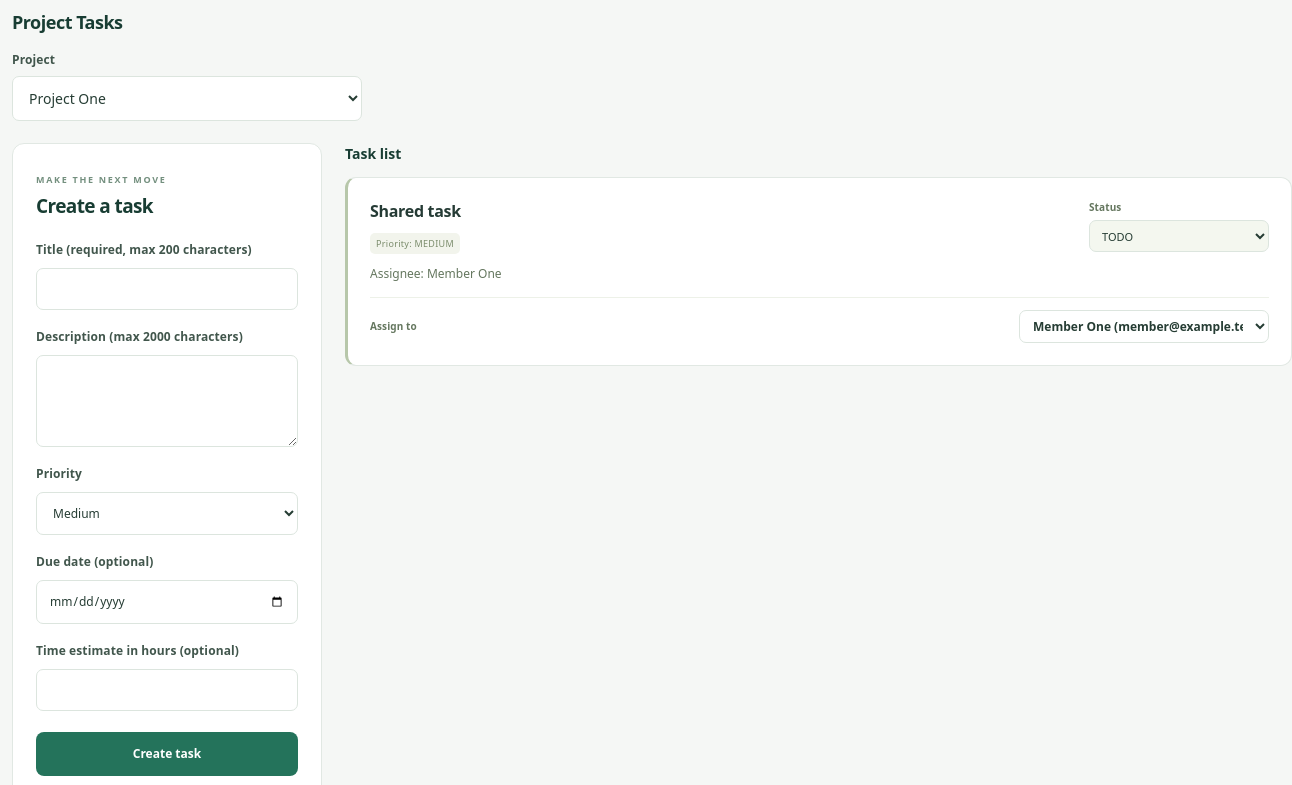
TaskWorkspace background synchronization › does not let a stale poll erase a newly created task
This screenshot has width=1292, height=785.
Type "New task" into the field labelled "Title (required, max 200 characters)".
click(167, 289); type("New task")  # box [36,268,298,310]
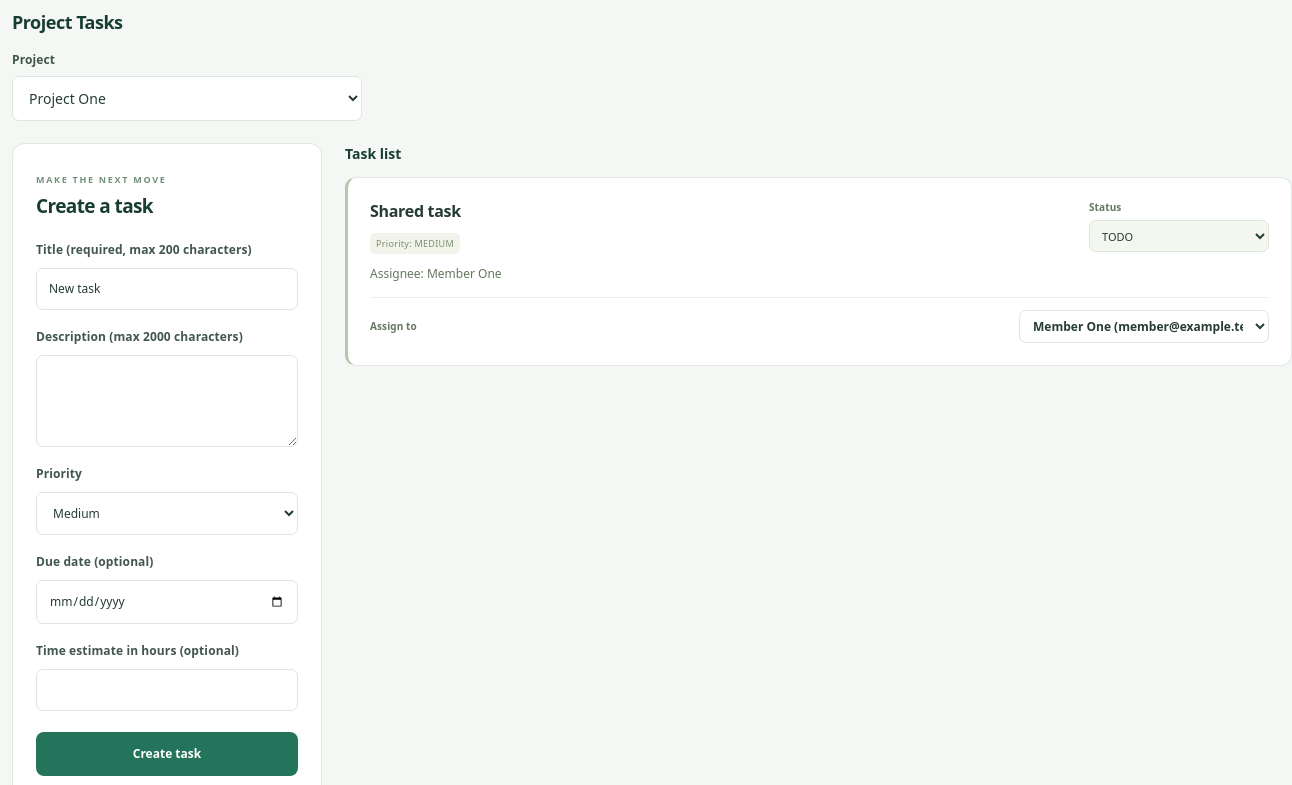
Click the button "Create task".
click(167, 754)  # box [36,732,298,776]
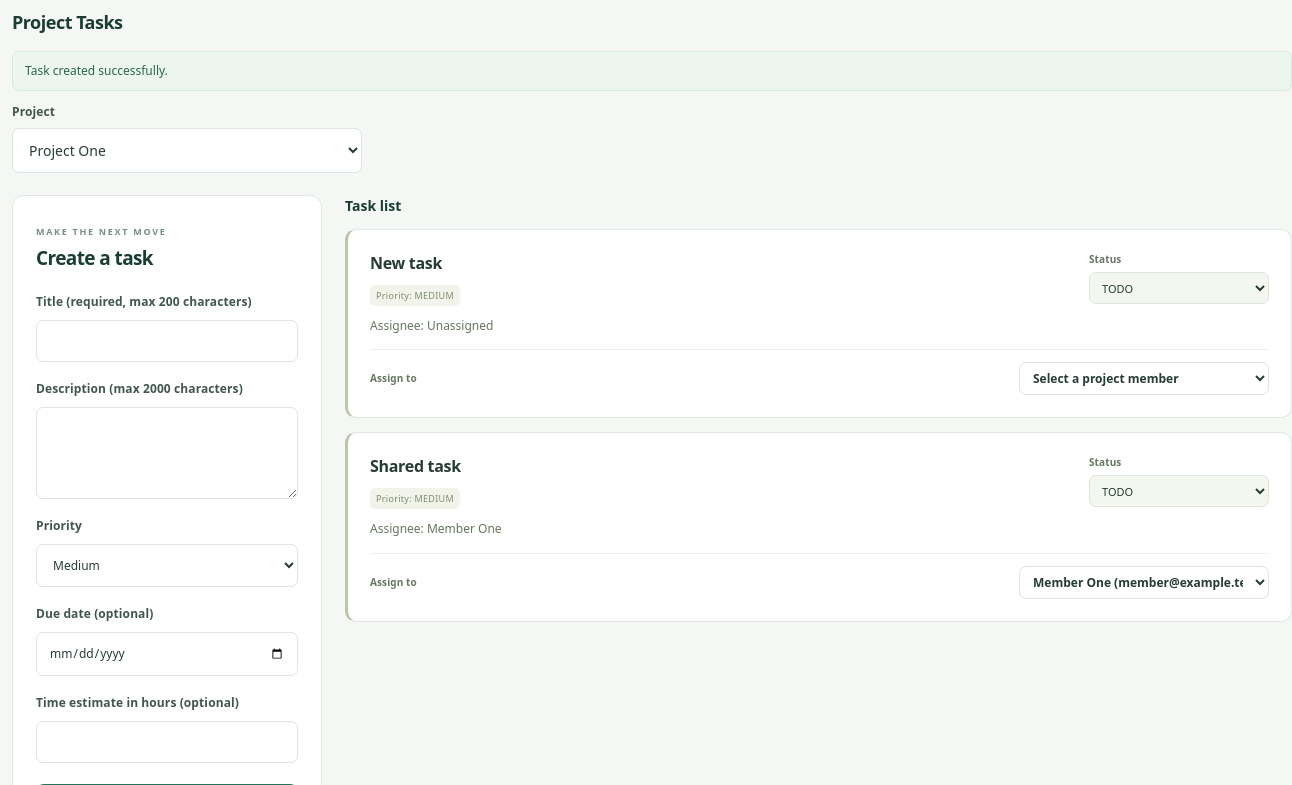
Expected: the text "New task" is shown, [370,252,442,274]
